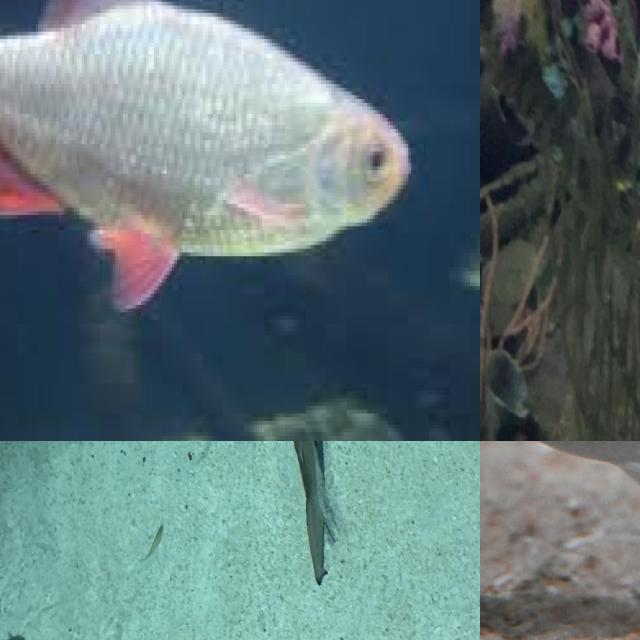fish: (0, 0, 480, 441), (191, 441, 341, 582), (480, 441, 640, 519)
